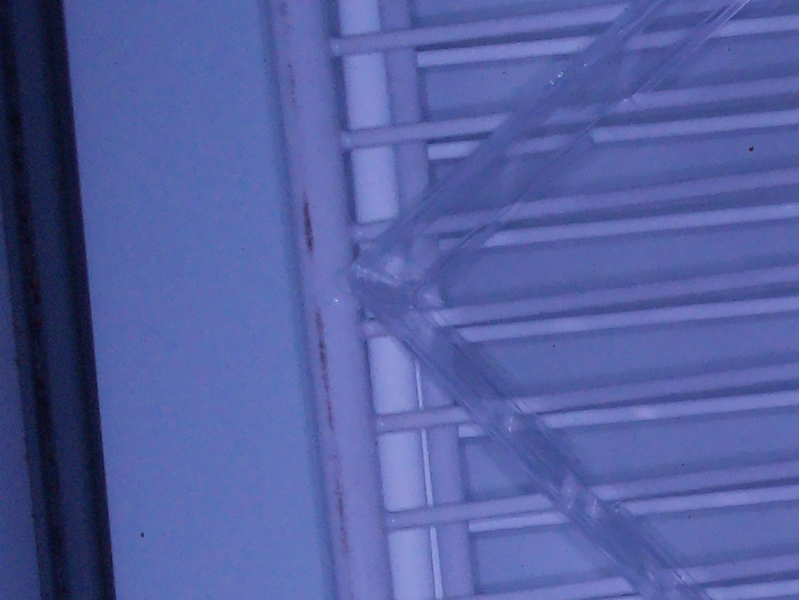plate: (341, 1, 799, 600)
